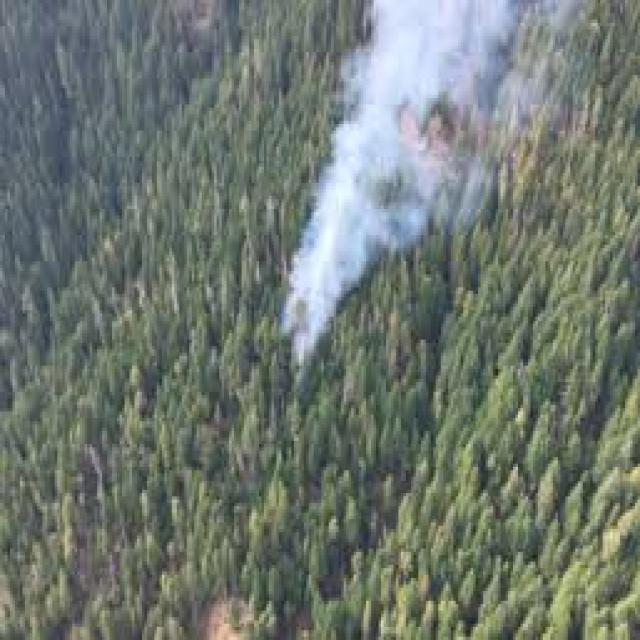Smoke: (276, 56, 446, 369), (328, 0, 500, 236)
